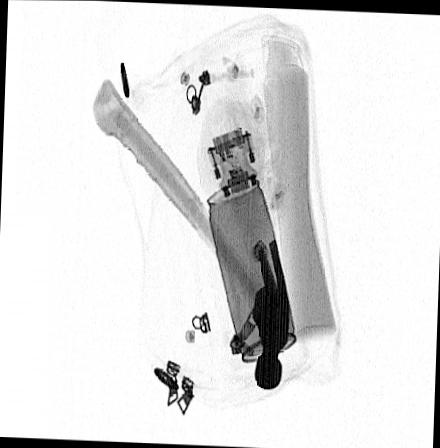Hammer: (90, 77, 289, 390)
